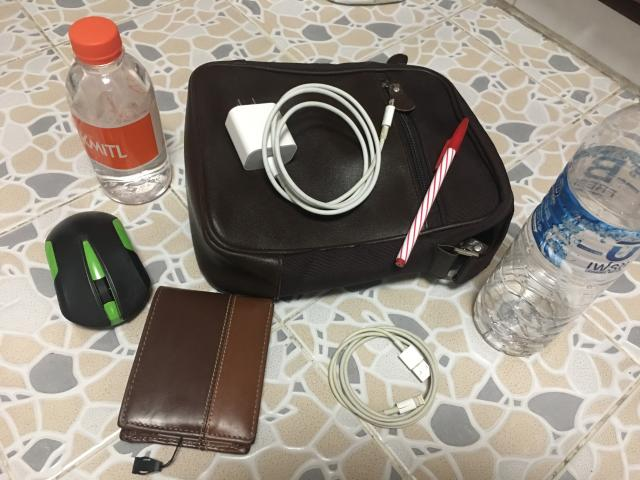Mouse: (45, 211, 150, 328)
Pen: (395, 118, 469, 268)
Wallet: (118, 286, 274, 454)
bottle: (475, 104, 640, 355), (66, 16, 171, 204)
wire: (225, 84, 402, 215), (329, 326, 439, 429)
